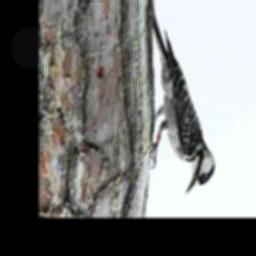Woodpecker: (147, 0, 217, 194)
